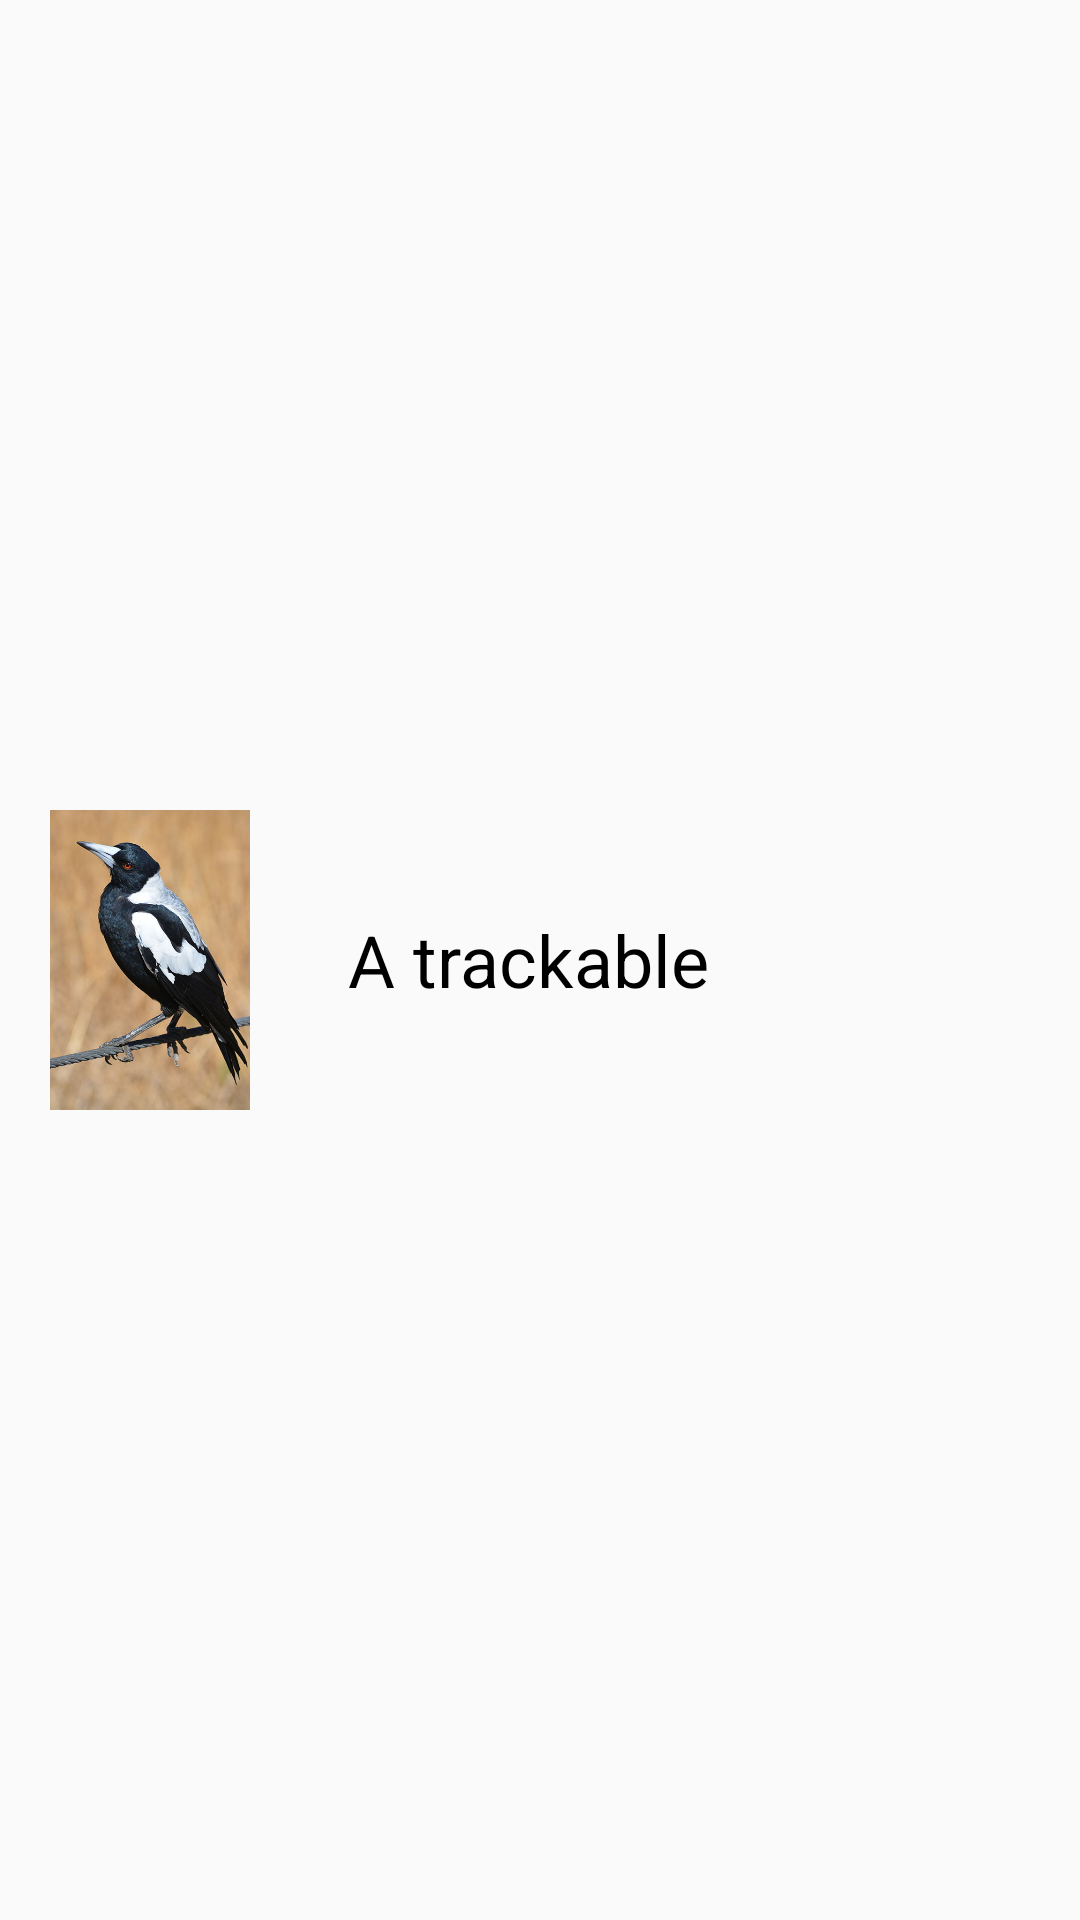

Icon bounding boxes for this 1080px x 1920px phone screenshot, format (x1, y1, x2, y2):
Magpie: (50, 810, 250, 1110)
